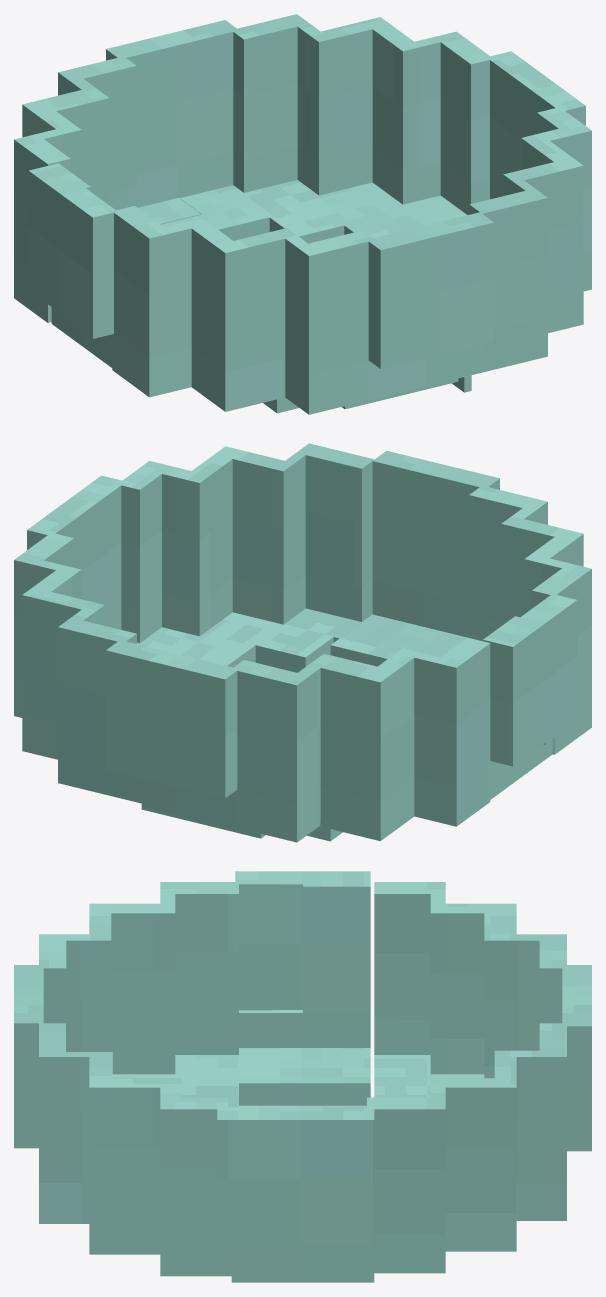
Rendered from Breakable_Bowl.fbx.
The picture shows the model from 3 angles, top to bottom: view 1: azimuth 30°, elevation 25°; view 2: azimuth 150°, elevation 25°; view 3: azimuth 270°, elevation 25°; orthographic projection. The views are drawn at different scales.
Parts seen in each view (by area): view 1: Bowl_Fragment_A, Bowl_Fragment_E, Bowl_Fragment_H, Bowl_Fragment_C, Bowl_Fragment_D, Bowl_Fragment_B, Bowl_Fragment_F; view 2: Bowl_Fragment_A, Bowl_Fragment_H, Bowl_Fragment_E, Bowl_Fragment_C, Bowl_Fragment_D, Bowl_Fragment_F; view 3: Bowl_Fragment_A, Bowl_Fragment_H, Bowl_Fragment_E, Bowl_Fragment_C, Bowl_Fragment_D.
Part boxes in pixels (left/top/right/bottom): Bowl_Fragment_A: left=41, top=14, right=544, bottom=243; Bowl_Fragment_E: left=60, top=188, right=493, bottom=414; Bowl_Fragment_H: left=469, top=76, right=591, bottom=372; Bowl_Fragment_C: left=14, top=100, right=221, bottom=322; Bowl_Fragment_D: left=28, top=163, right=113, bottom=367; Bowl_Fragment_B: left=138, top=198, right=201, bottom=224; Bowl_Fragment_F: left=263, top=375, right=471, bottom=413; Bowl_Fragment_A: left=14, top=505, right=377, bottom=839; Bowl_Fragment_H: left=61, top=443, right=374, bottom=667; Bowl_Fragment_E: left=330, top=450, right=591, bottom=754; Bowl_Fragment_C: left=201, top=637, right=490, bottom=841; Bowl_Fragment_D: left=307, top=616, right=552, bottom=841; Bowl_Fragment_F: left=246, top=616, right=344, bottom=672; Bowl_Fragment_A: left=303, top=913, right=591, bottom=1282; Bowl_Fragment_H: left=39, top=1023, right=302, bottom=1282; Bowl_Fragment_E: left=14, top=871, right=302, bottom=1148; Bowl_Fragment_C: left=374, top=882, right=516, bottom=1097; Bowl_Fragment_D: left=239, top=871, right=370, bottom=1107.
Size of the model in its own units: 9.12 by 4.3 by 8.96.
Materials: 1 (1 with a texture image).
